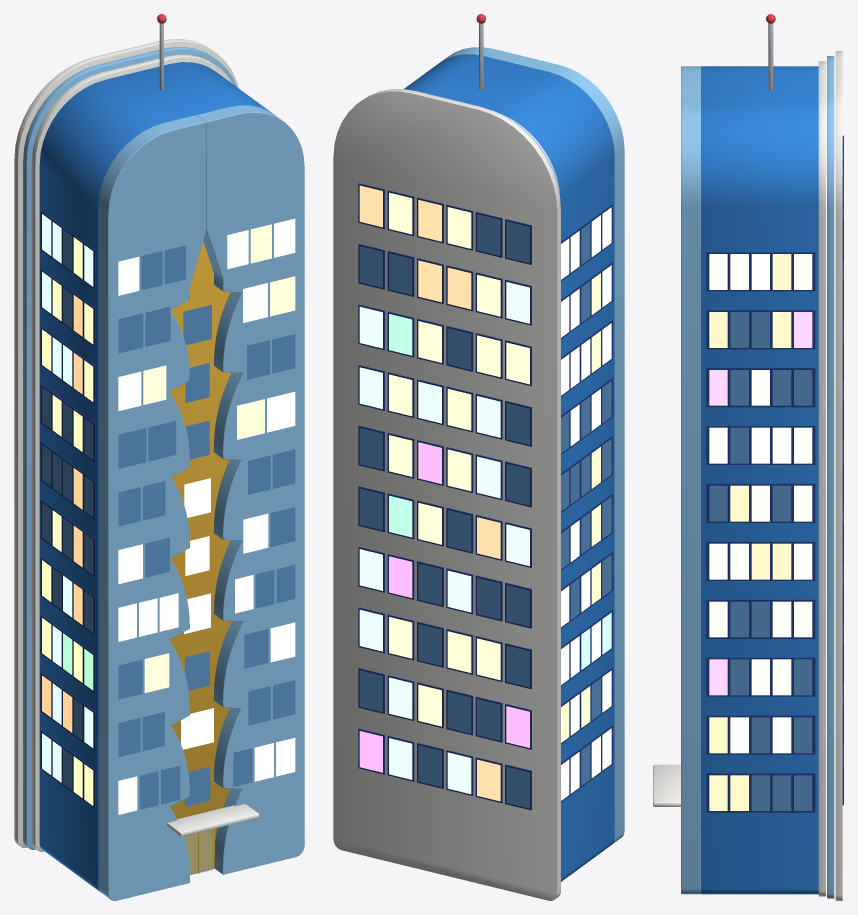
Rendered from torre_onda_azul.glb.
3 renders of one model, left to right at view 1: azimuth 30°, elevation 25°; view 2: azimuth 150°, elevation 25°; view 3: azimuth 270°, elevation 25°, orthographic.
Visible parts, largest first — view 1: torre_onda_azul; view 2: torre_onda_azul; view 3: torre_onda_azul.
Boxes of the visible parts, box(x1,y1,x2,y2) form: torre_onda_azul: box(14, 14, 304, 900); torre_onda_azul: box(333, 14, 624, 900); torre_onda_azul: box(653, 14, 843, 900).
Bounding box in the file's own units: 12.96 × 46.15 × 9.56.
8 materials, 1 textured.
